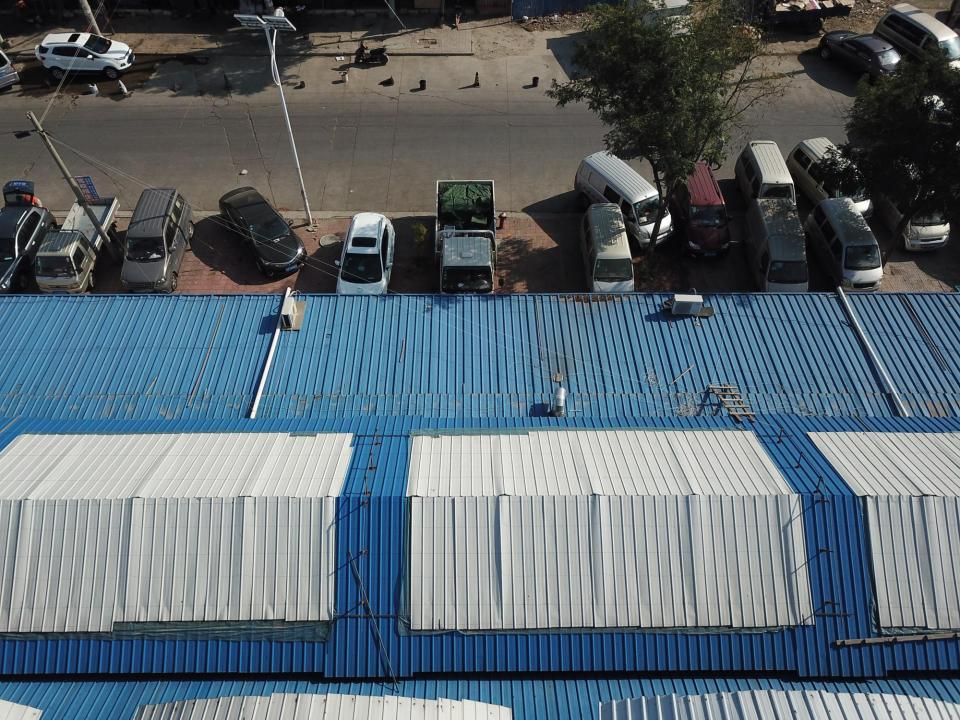car: (851, 142, 949, 253), (220, 187, 307, 280), (873, 3, 960, 82), (816, 31, 918, 96), (332, 211, 394, 299), (0, 201, 55, 298), (32, 28, 135, 79), (658, 14, 704, 79), (919, 90, 956, 136)
truck: (35, 190, 124, 302), (431, 178, 505, 293)
van: (571, 147, 674, 249), (119, 187, 194, 297), (665, 148, 734, 260), (785, 136, 876, 216), (816, 187, 884, 292), (752, 197, 812, 294), (582, 203, 639, 297), (739, 137, 796, 205)
